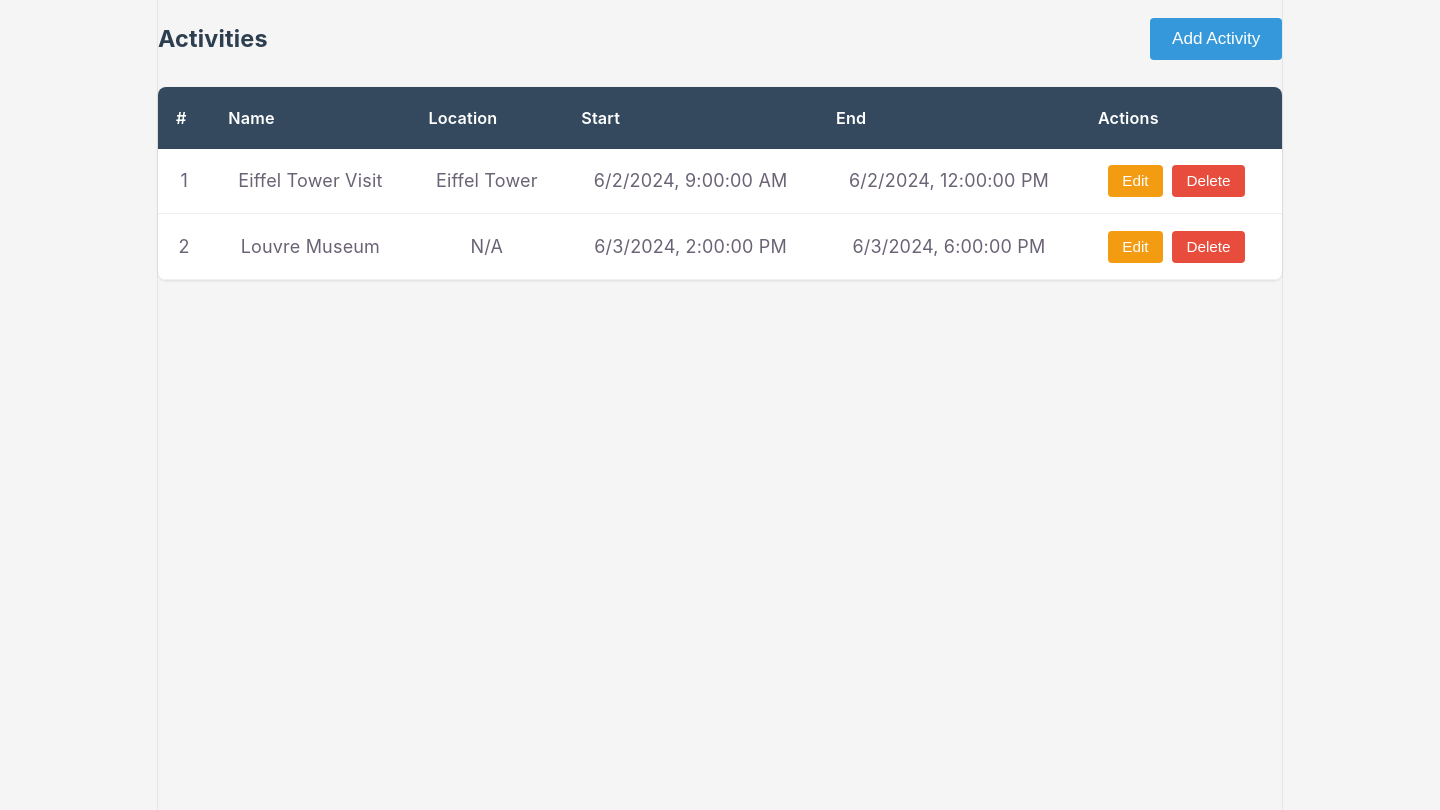
it: ActivityList › pre-fills form with activity data when Edit is clicked
Click the button "Edit" in the row of "Eiffel Tower Visit" at {"x": 1135, "y": 181}, box [1108,165,1163,197]
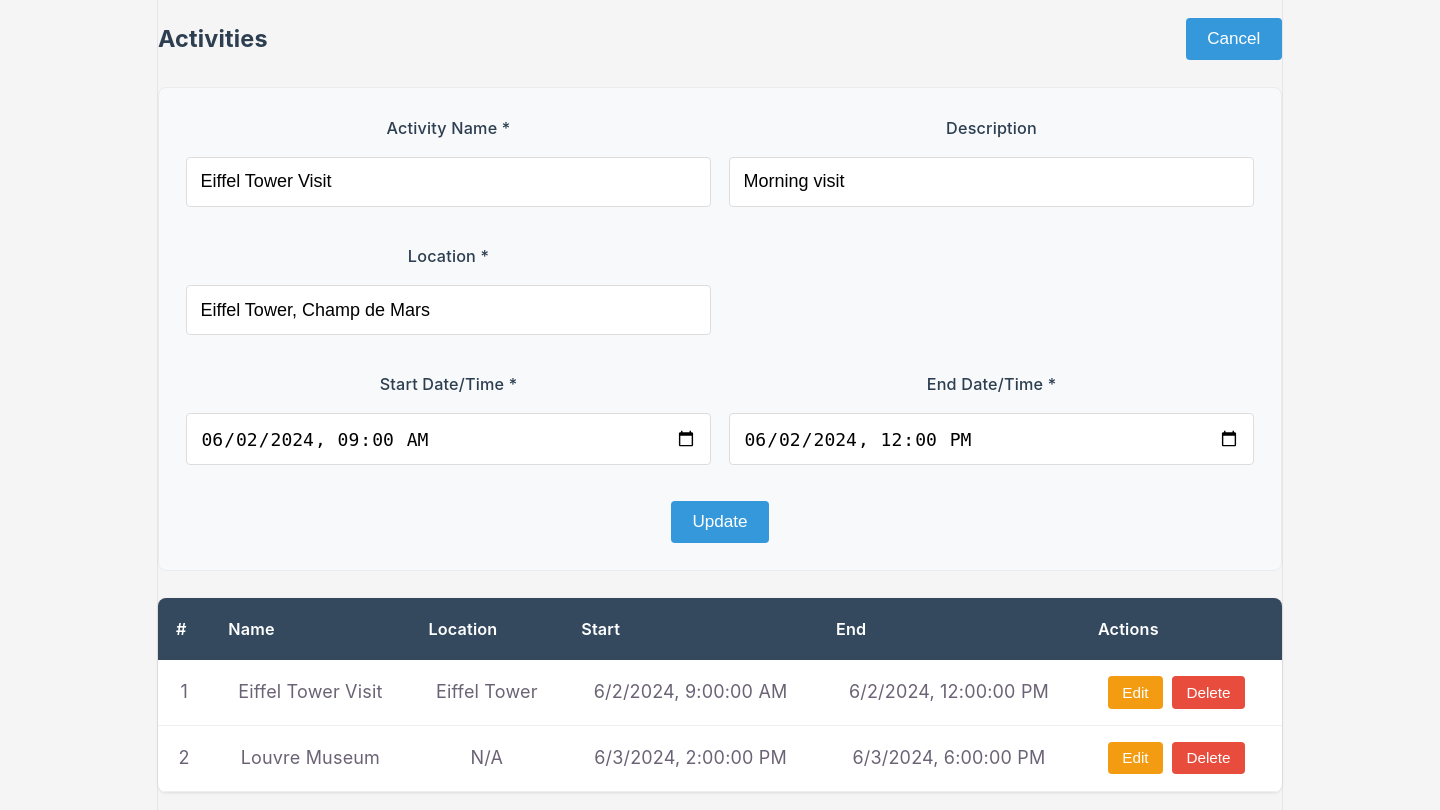
Result: the field showing "Eiffel Tower Visit" below "Activity Name *" is shown at [186,157,711,207]
Result: the field showing "Morning visit" below "Description" is shown at [729,157,1254,207]
